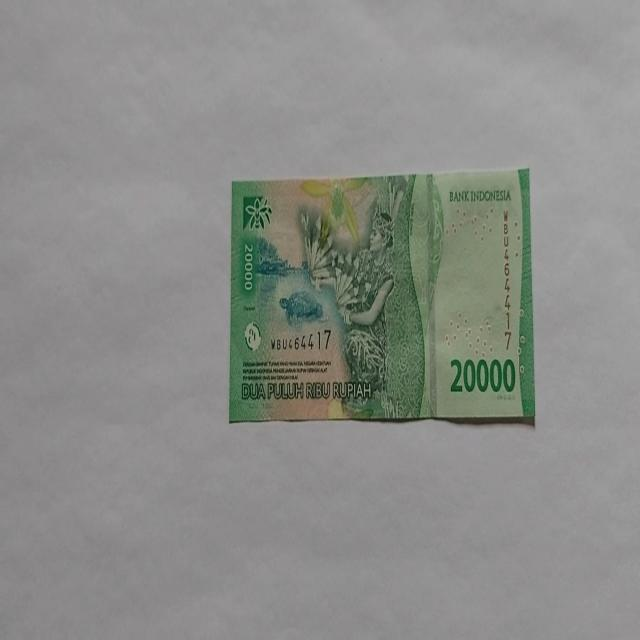dua puluh ribu rupiah: (228, 167, 536, 427), (298, 173, 440, 420)
